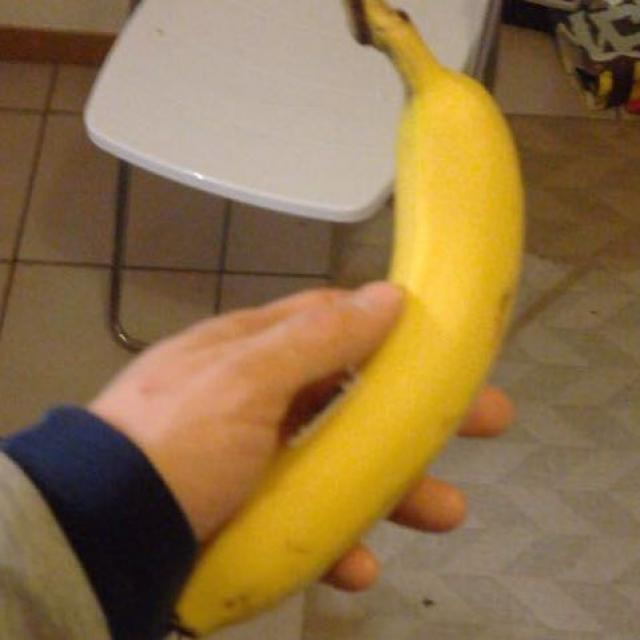banana: (178, 3, 528, 632), (179, 6, 523, 632)
